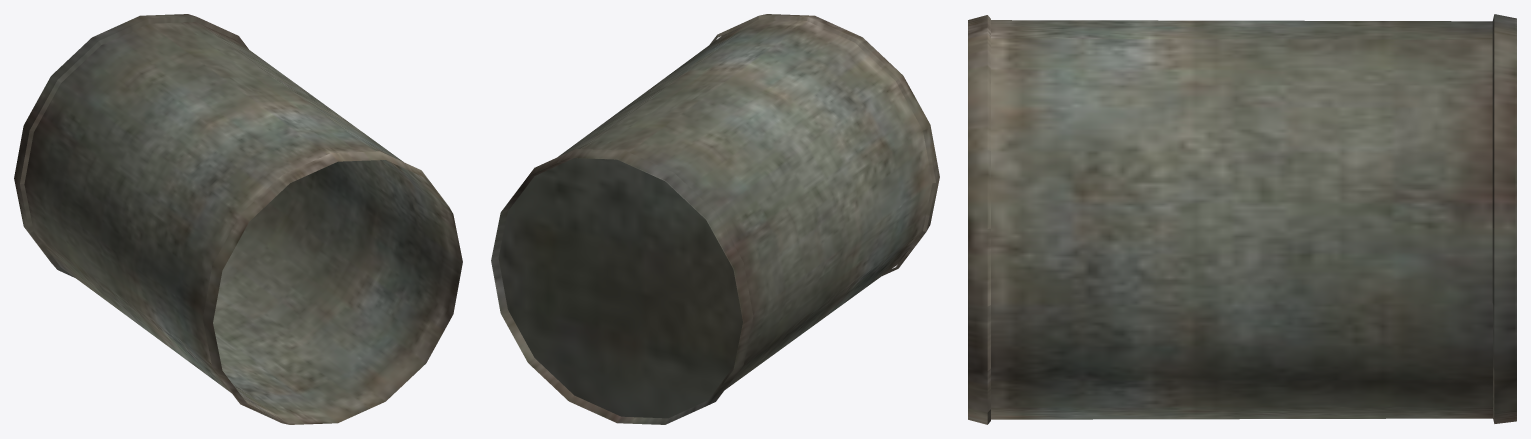
Rendered from prop_tincan.glb.
The picture shows the model from 3 angles, left to right: view 1: azimuth 30°, elevation 25°; view 2: azimuth 150°, elevation 25°; view 3: azimuth 270°, elevation 25°; orthographic projection. The views are drawn at different scales.
Bounding box in the file's own units: 4.31 × 4.32 × 5.76.
1 material, 1 textured.
